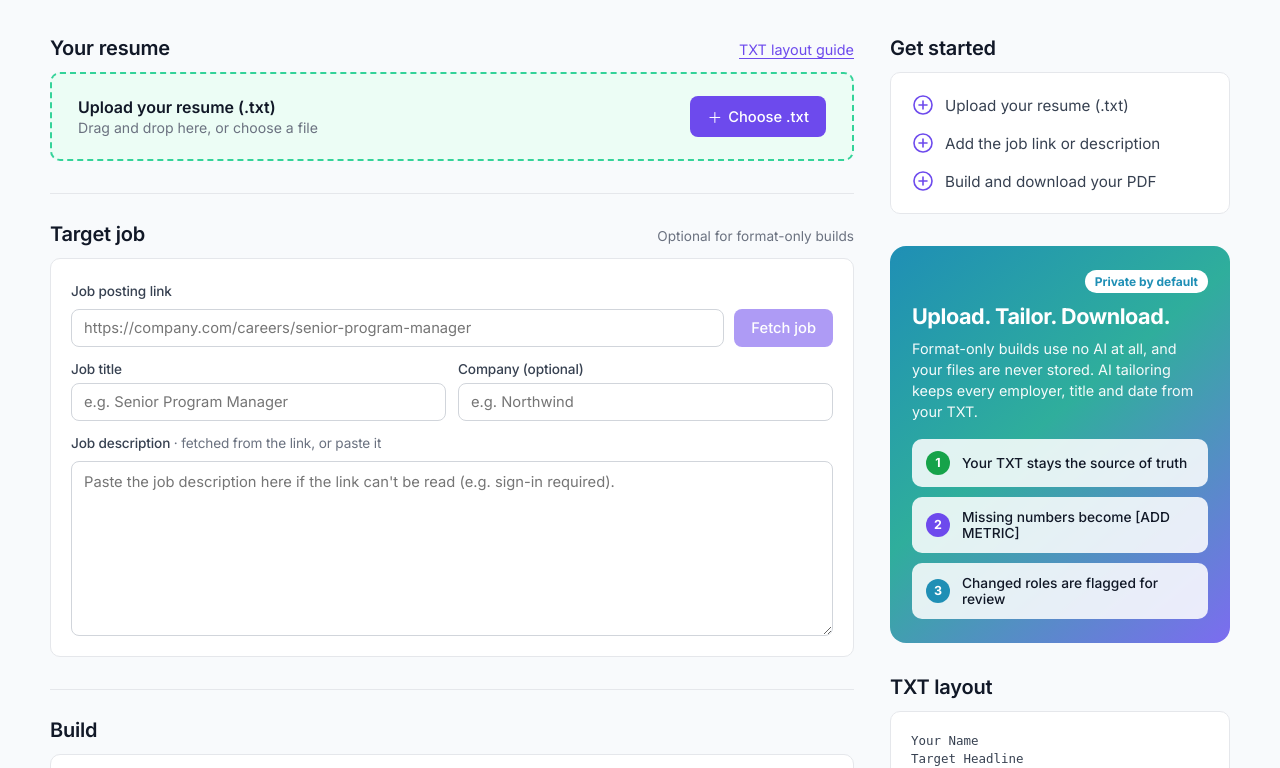
Test: StudioDashboard › shows a helpful error when the link can't be read
Type "https://linkedin.com/jobs/1" into the field labelled "Job posting link". click: (398, 328)
box: [71,309,724,347]
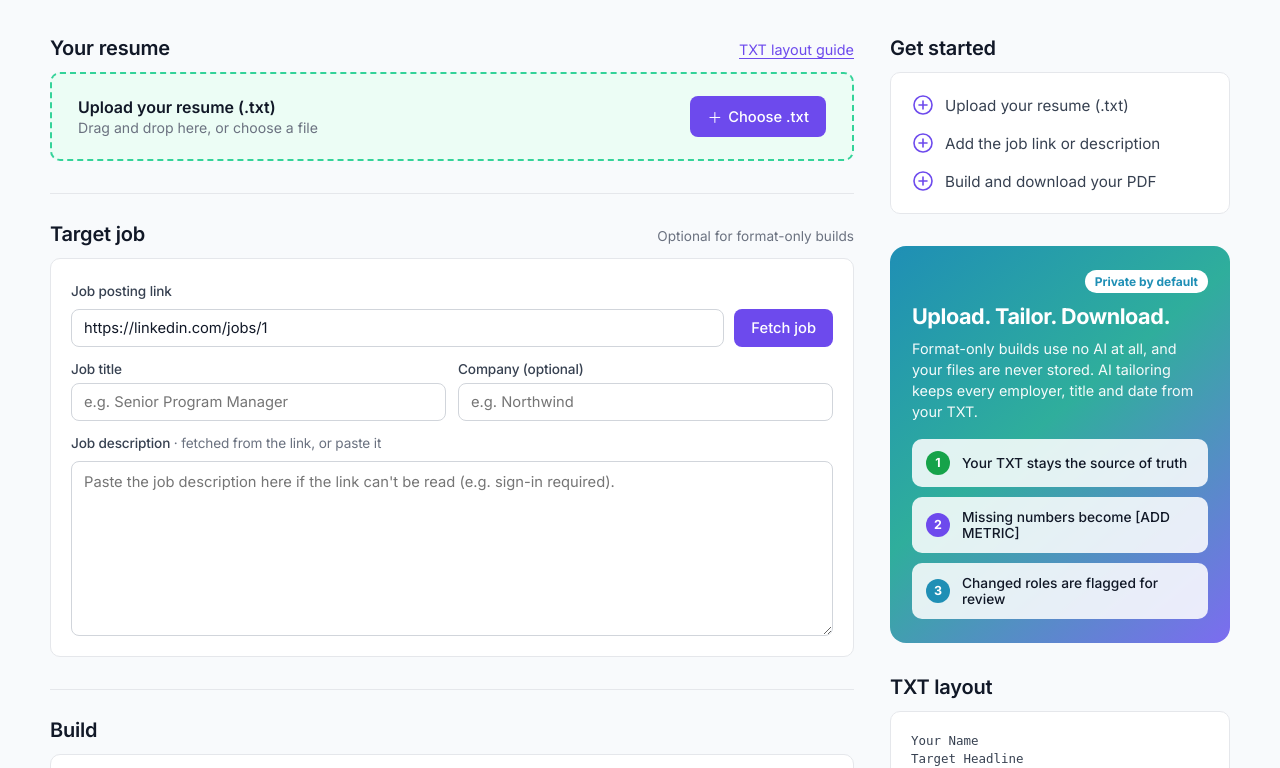
Click the button "Fetch job". click: (784, 328)
box: [734,309,833,347]
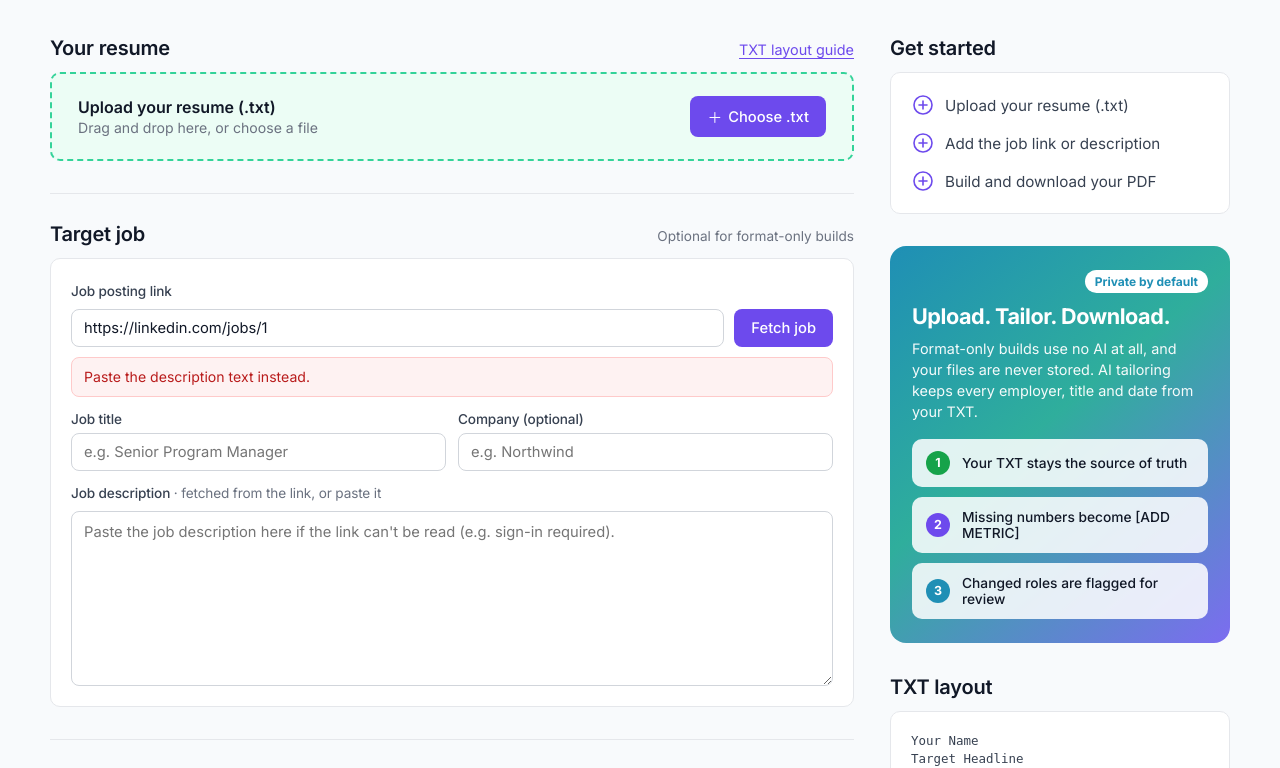
expect the message shows "Paste the description": met, box [84,368,310,385]
